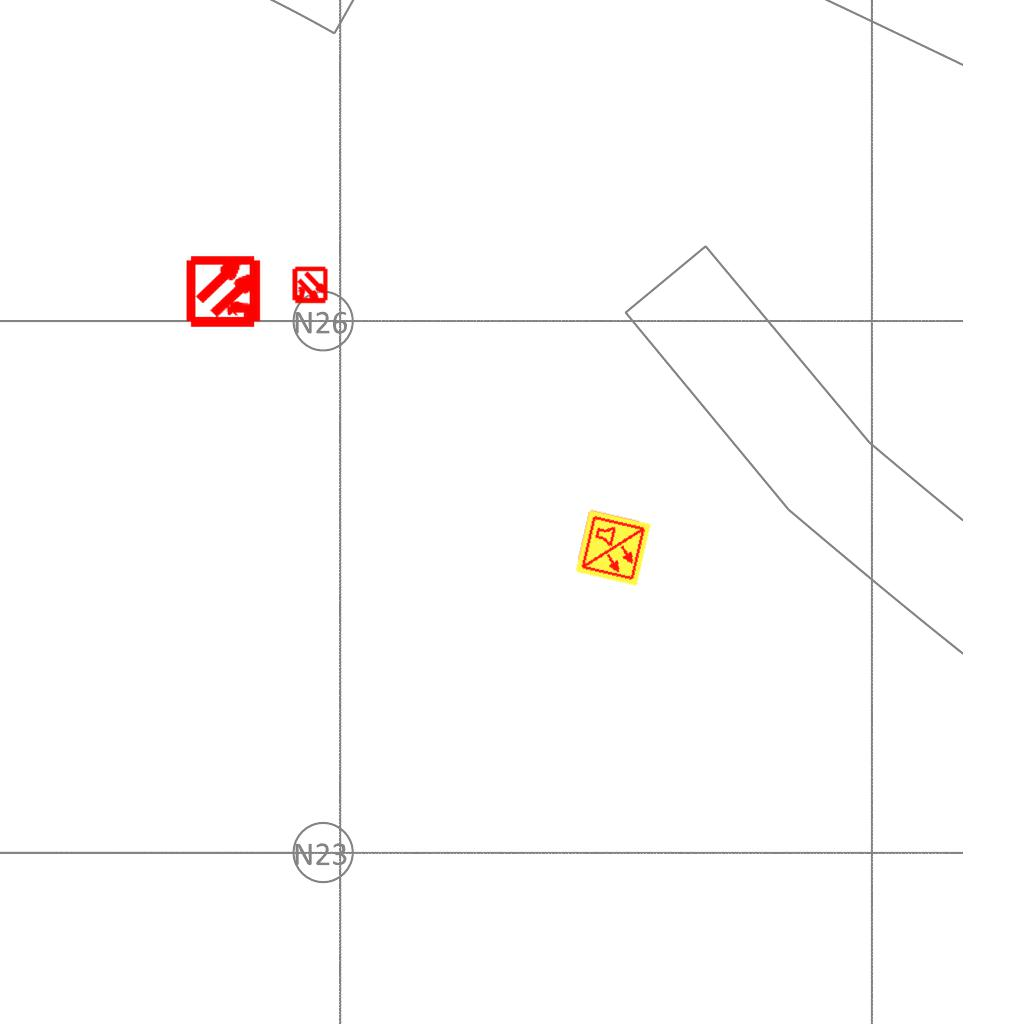OKW_Multisensormelder_(Kombination_optischer_Rauch-Kahlenmonoxid_Waerme-Melder): (573, 508, 653, 588)
OT_Multisensormelder_(Kombination_RMO_WMD): (169, 235, 282, 348), (282, 258, 338, 314)
